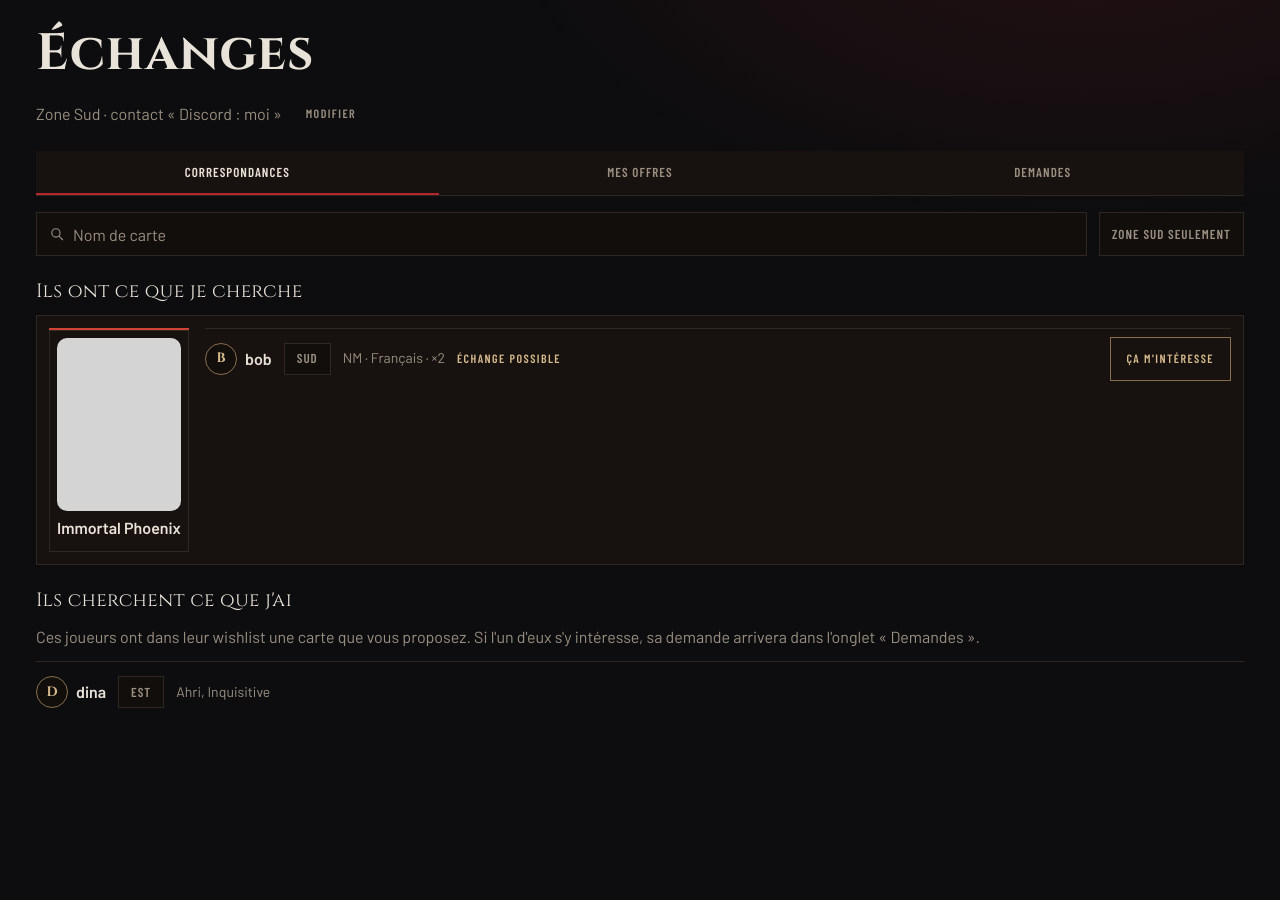
Test: TradesView › montre les correspondances et envoie une demande avec un message
The image size is (1280, 900).
Expected: the list item with class "offre" shows "bob", [205, 337, 272, 381]
Expected: the list item with class "offre" shows "Sud", [297, 350, 318, 366]
Click the button "Ça m'intéresse" at (1170, 359), box [1110, 337, 1231, 381]
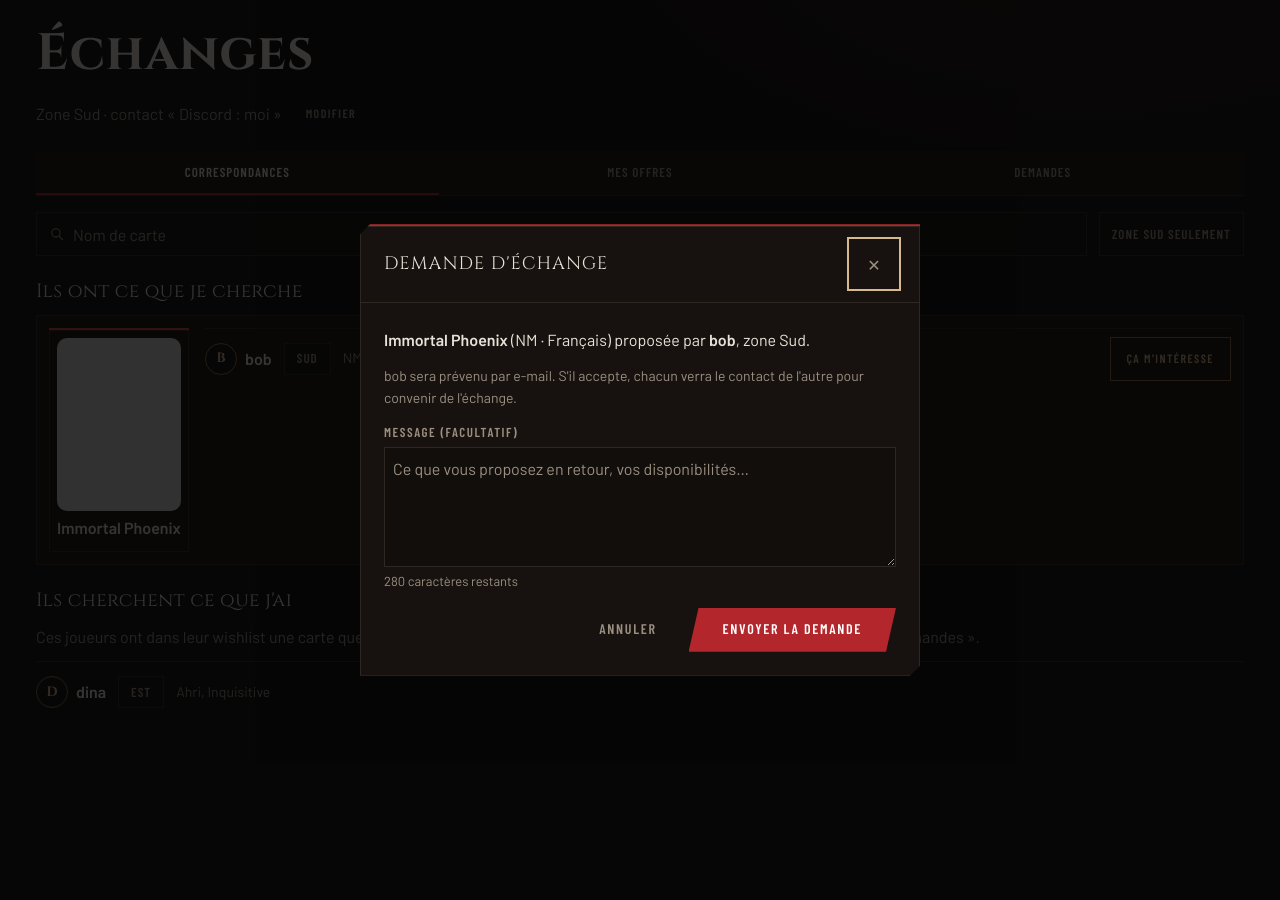
Result: the dialog shows "Immortal Phoenix" at [384, 330, 508, 349]
Type "Salut !" into the text box labelled "Message (facultatif) 280 caractères restants" at (640, 507), box [384, 446, 896, 567]
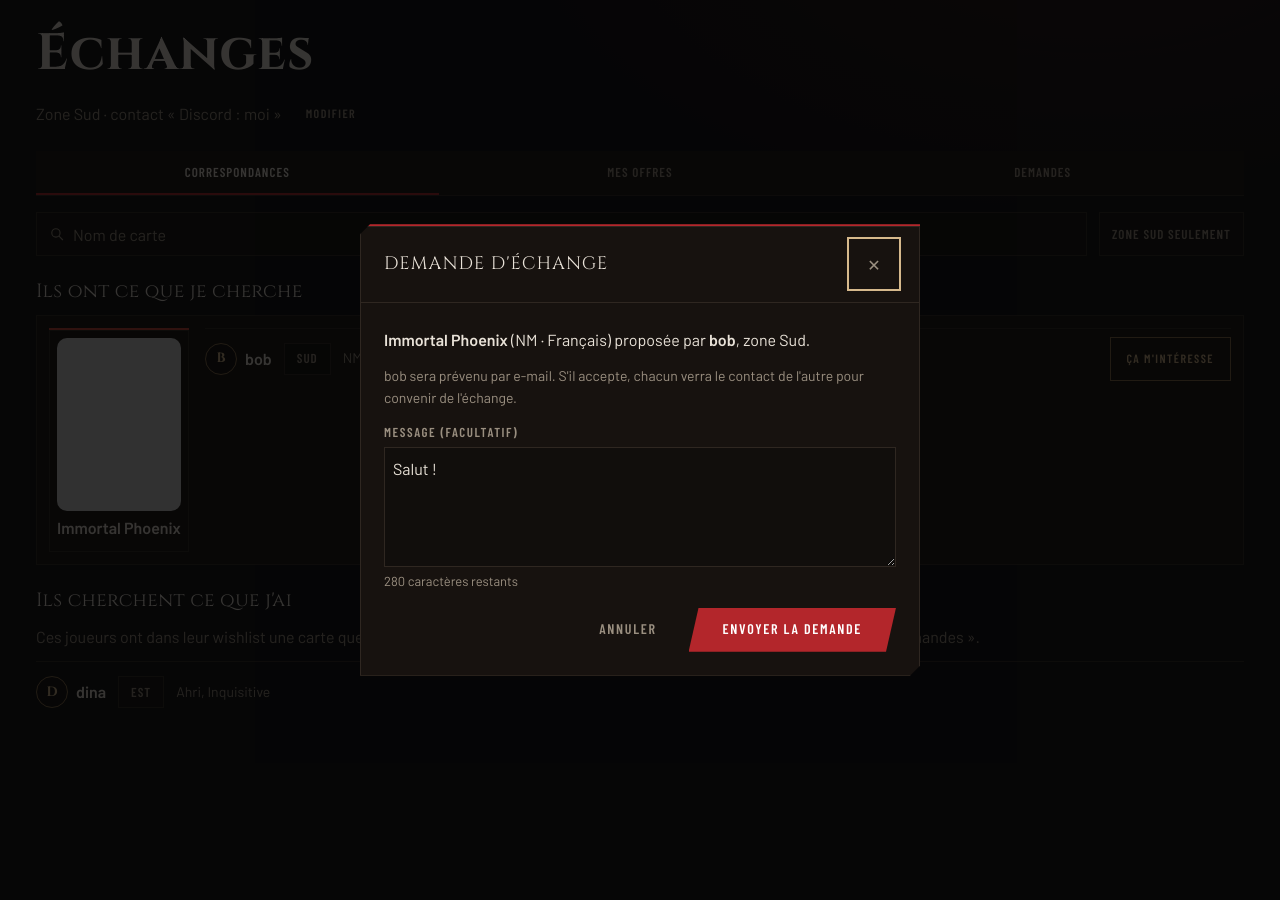
Click the button "Envoyer la demande" at (792, 630), box [689, 608, 896, 652]
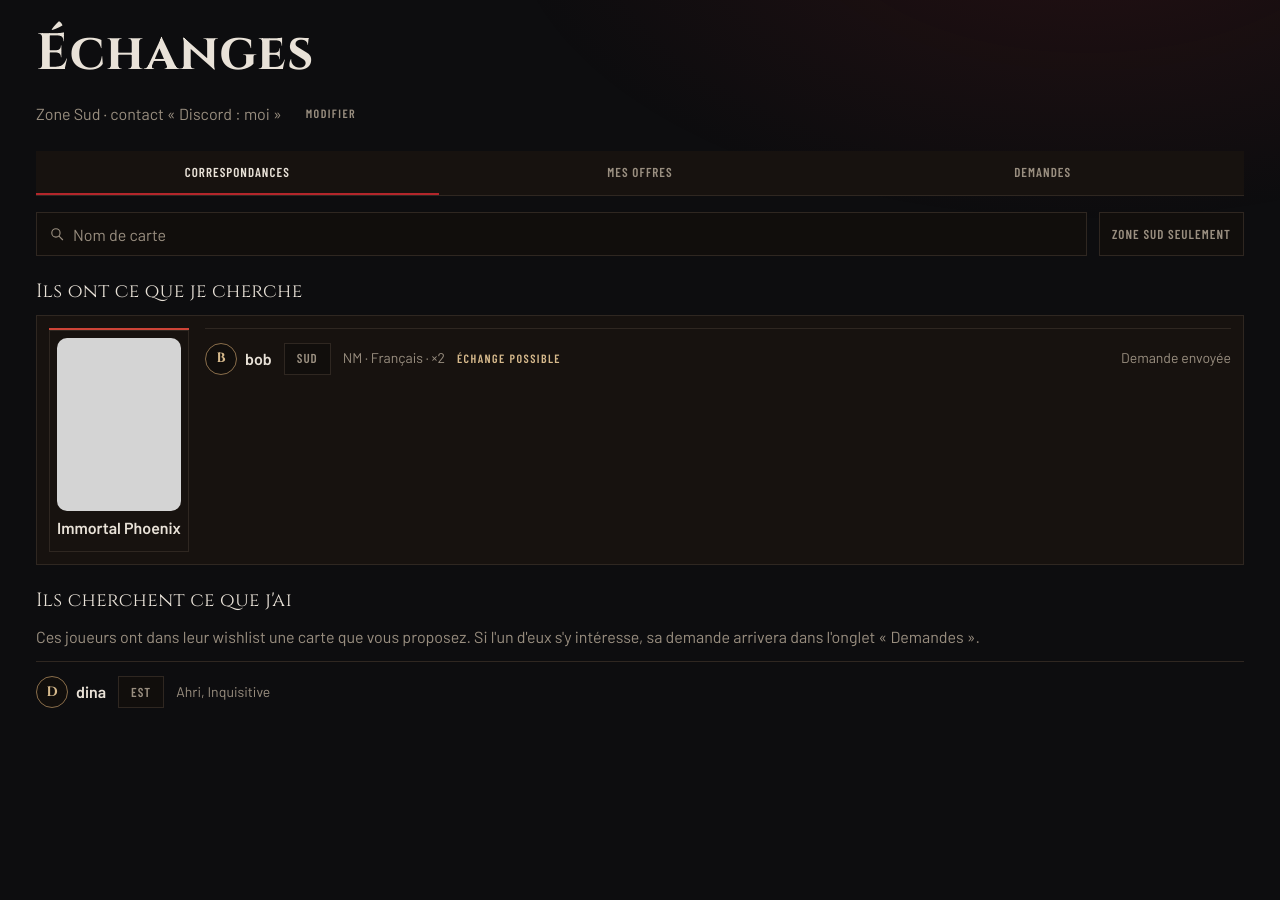
Result: the list item with class "offre" shows "Demande envoyée" at [1121, 350, 1231, 366]
